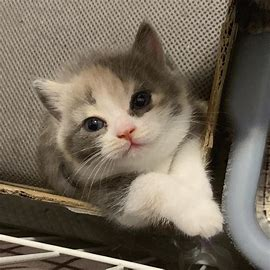cat: (20, 20, 225, 220)
